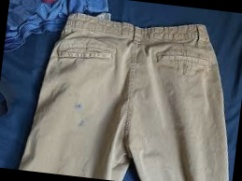ink: (78, 118, 85, 129), (73, 102, 82, 109)
